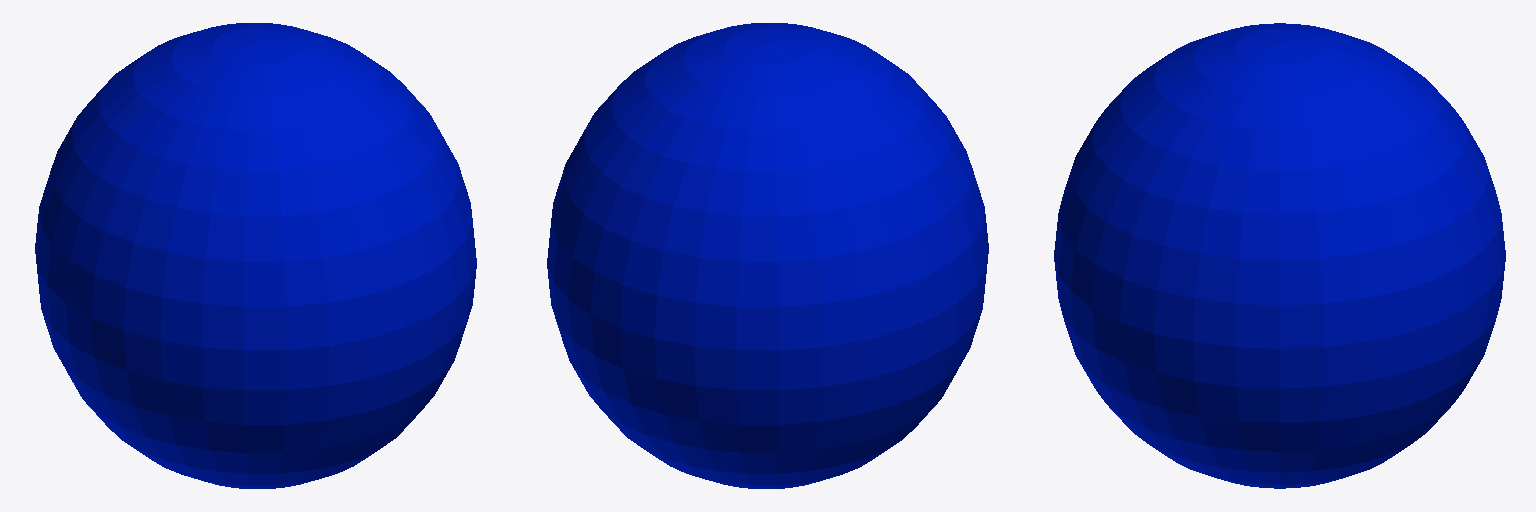
File: moya_fan_b.obj
3 views of the same model, side by side, from view 1: azimuth 30°, elevation 25°; view 2: azimuth 150°, elevation 25°; view 3: azimuth 270°, elevation 25° (orthographic).
Visible parts, largest first — view 1: Sphere_Sphere.000_Sphere_Sphere.004; view 2: Sphere_Sphere.000_Sphere_Sphere.004; view 3: Sphere_Sphere.000_Sphere_Sphere.004.
Boxes of the visible parts, box(x1,y1,x2,y2) form: Sphere_Sphere.000_Sphere_Sphere.004: box(35, 23, 476, 488); Sphere_Sphere.000_Sphere_Sphere.004: box(547, 23, 988, 488); Sphere_Sphere.000_Sphere_Sphere.004: box(1054, 23, 1505, 488).
Size of the model in its own units: 0.4594 by 0.4922 by 0.4726.